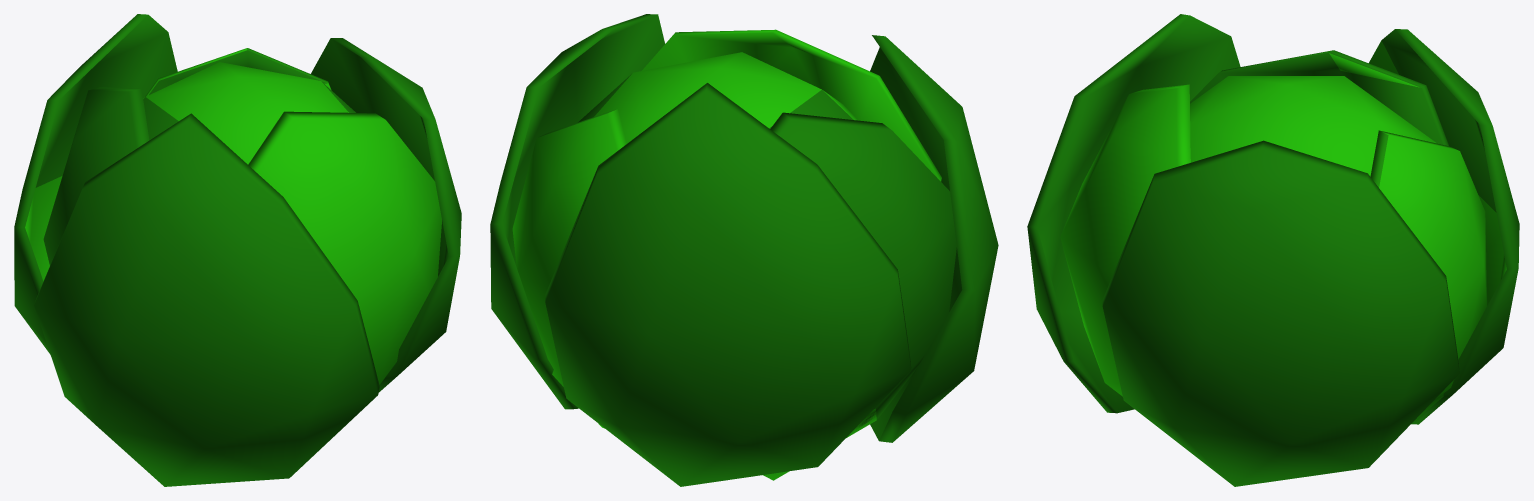
Rendered from cabbage stage 3.glb.
3 views of the same model, side by side, from view 1: azimuth 30°, elevation 25°; view 2: azimuth 150°, elevation 25°; view 3: azimuth 270°, elevation 25° (orthographic). The views are drawn at different scales.
Parts seen in each view (by area): view 1: Cabbage3; view 2: Cabbage3; view 3: Cabbage3.
Part boxes in pixels (<box>): Cabbage3: <box>14,14,461,486</box>; Cabbage3: <box>490,14,998,486</box>; Cabbage3: <box>1027,14,1519,486</box>.
Bounding box in the file's own units: 0.5268 × 0.4798 × 0.5311.
1 material, 1 textured.
